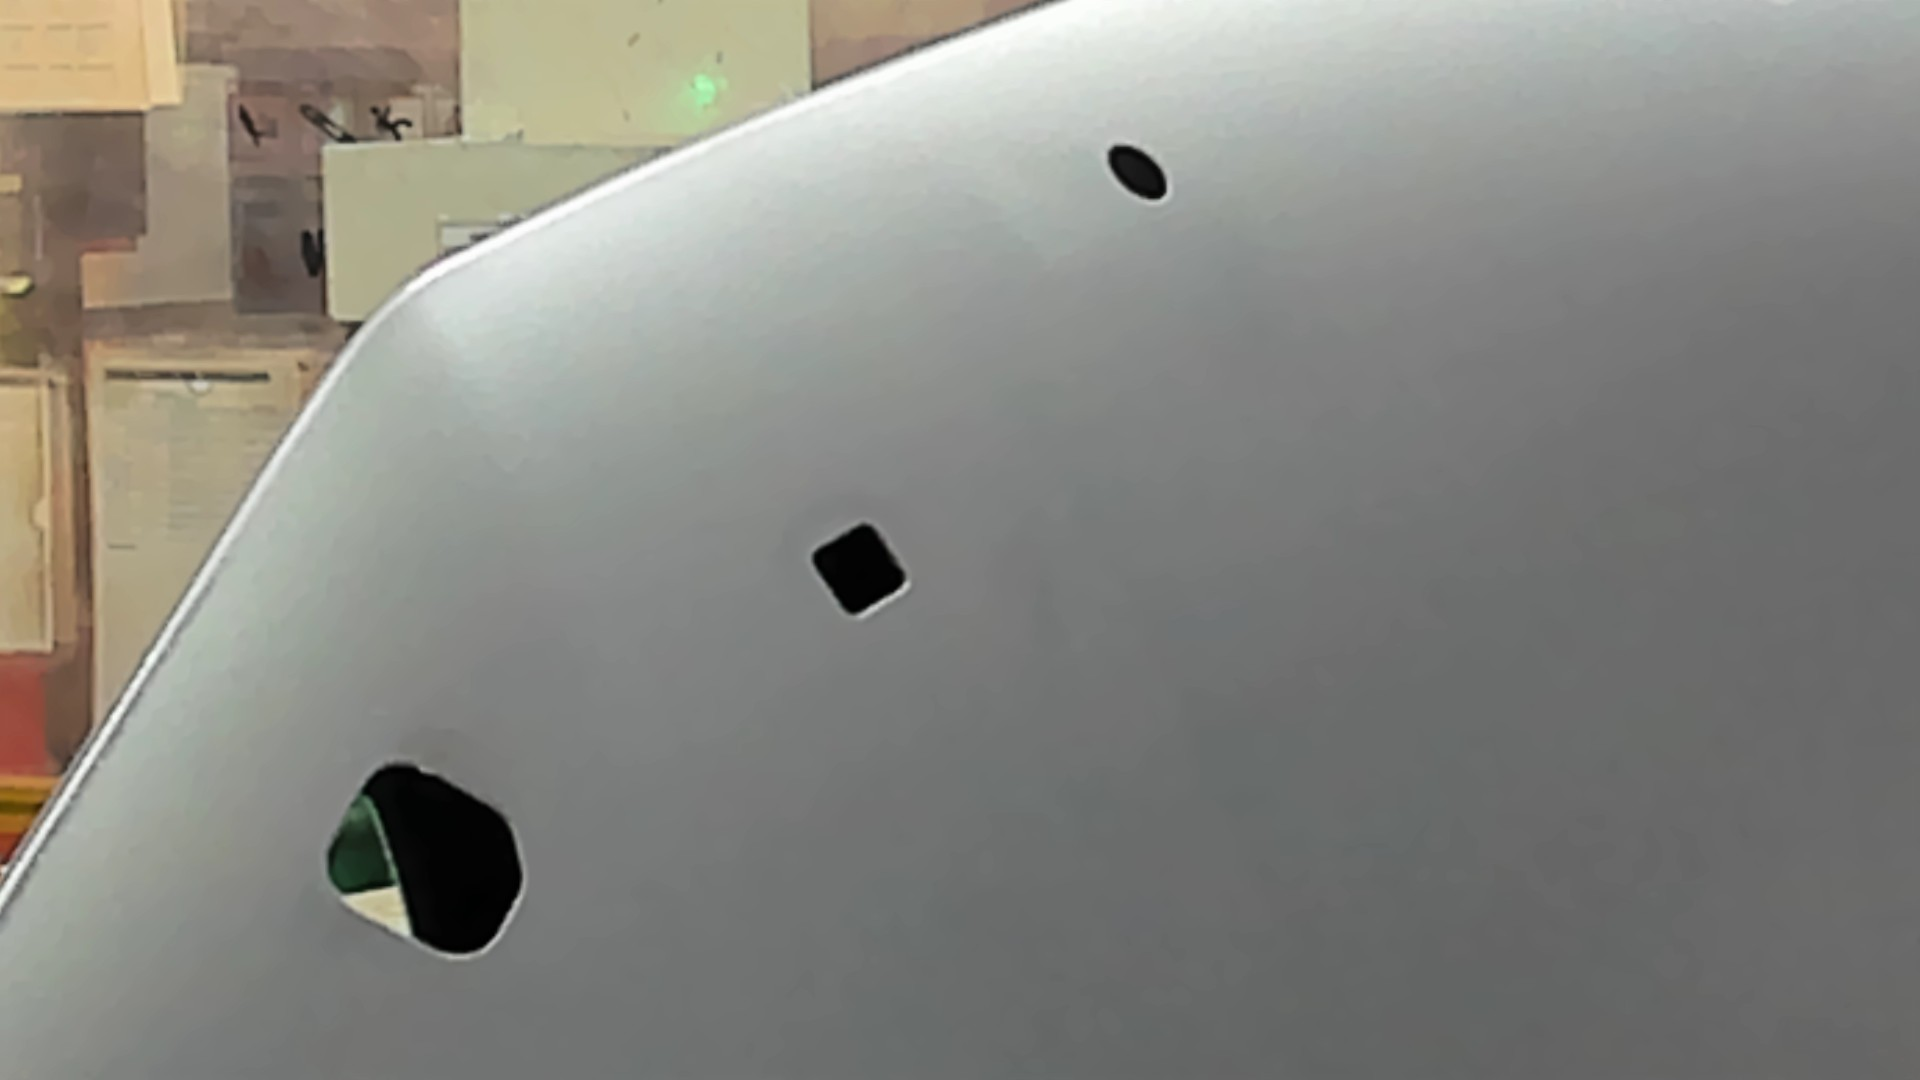chico: (1100, 137, 1182, 211)
grande: (305, 740, 538, 988)
mediano: (793, 510, 928, 633)
